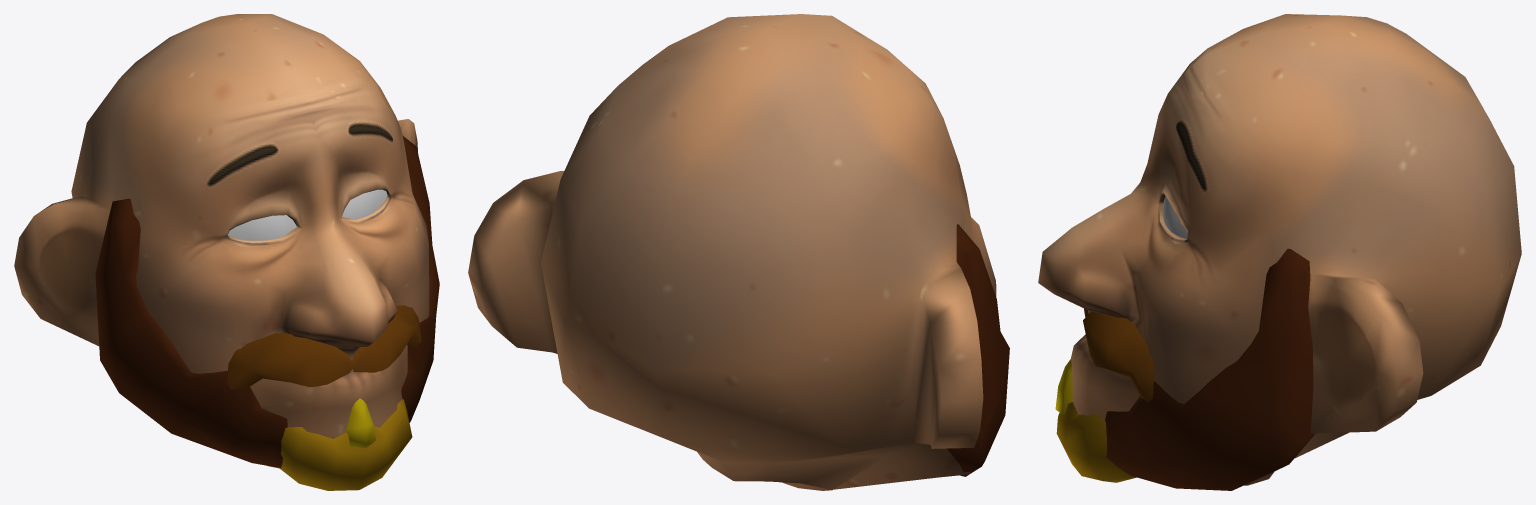
File: E_pose01.fbx
3 views of the same model, side by side, from view 1: azimuth 30°, elevation 25°; view 2: azimuth 150°, elevation 25°; view 3: azimuth 270°, elevation 25° (orthographic). The views are drawn at different scales.
Visible parts, largest first — view 1: HEAD, BEARD; view 2: HEAD, BEARD; view 3: HEAD, BEARD.
Boxes of the visible parts, <box> form: HEAD: <box>14,14,429,468</box>; BEARD: <box>95,136,439,490</box>; HEAD: <box>468,14,996,490</box>; BEARD: <box>947,224,1009,476</box>; HEAD: <box>1038,14,1521,485</box>; BEARD: <box>1055,248,1315,490</box>.
Bounding box in the file's own units: 27.45 × 25.39 × 24.9.
